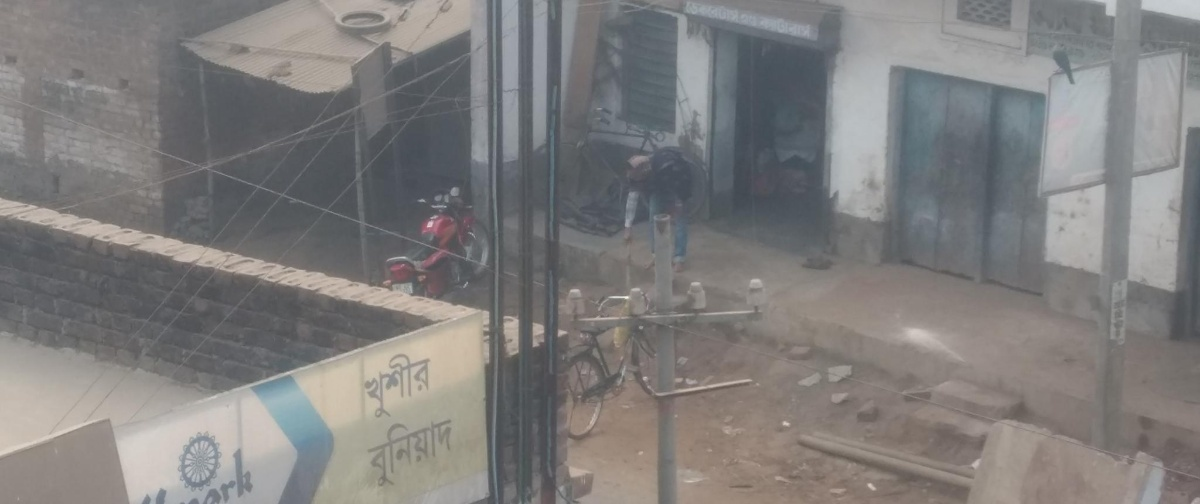text: (369, 400, 384, 499), (385, 400, 400, 499), (401, 400, 416, 499), (417, 400, 432, 499), (433, 400, 448, 499), (369, 343, 384, 430), (385, 343, 400, 430), (401, 343, 416, 430), (417, 343, 432, 430), (449, 400, 459, 499), (225, 442, 240, 504), (241, 442, 256, 504), (360, 343, 368, 430), (363, 400, 368, 499), (433, 343, 436, 430), (257, 442, 260, 504)
